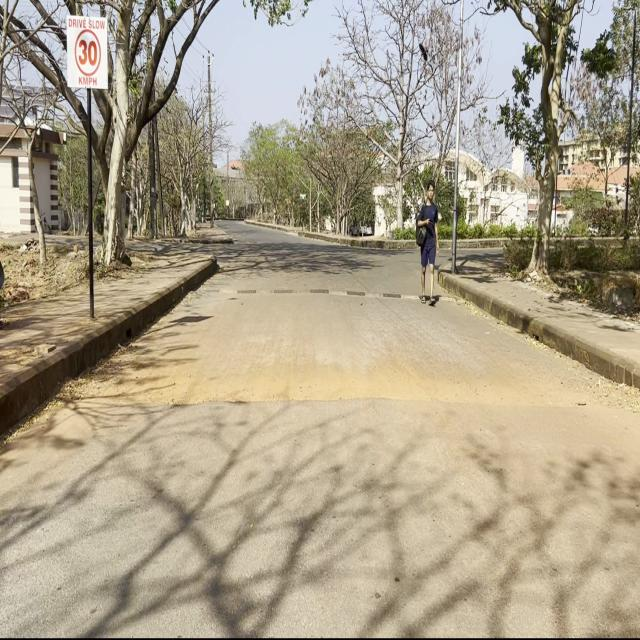Object: (420, 174, 441, 309)
Road: (3, 226, 639, 631)
